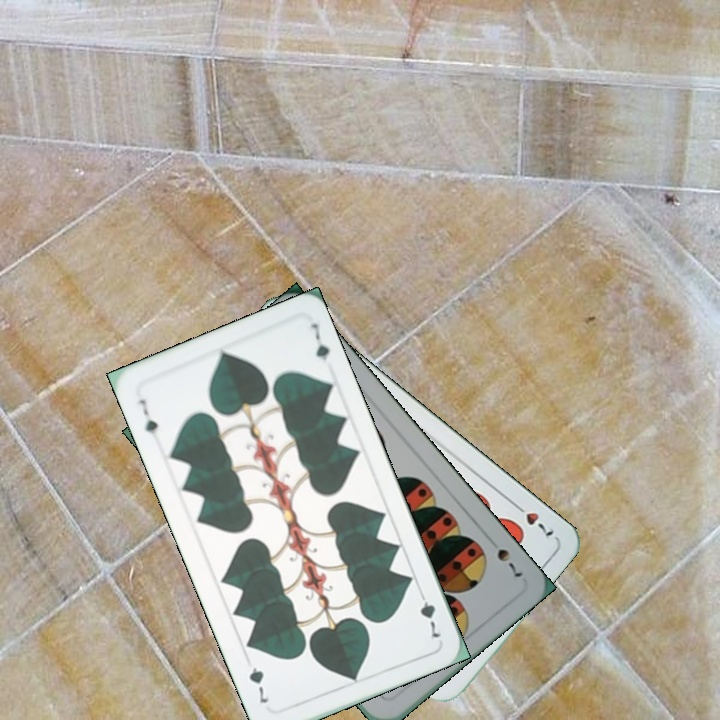G7: (414, 585, 444, 641), (134, 395, 161, 445)
H7: (508, 497, 557, 539)
S7: (493, 544, 526, 580)
